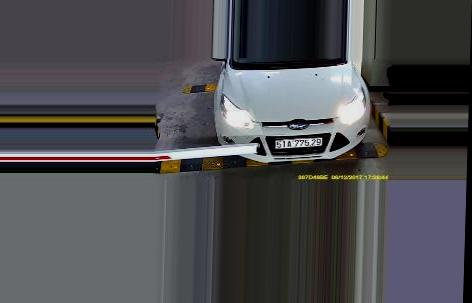License_Plate: (276, 136, 322, 149)
